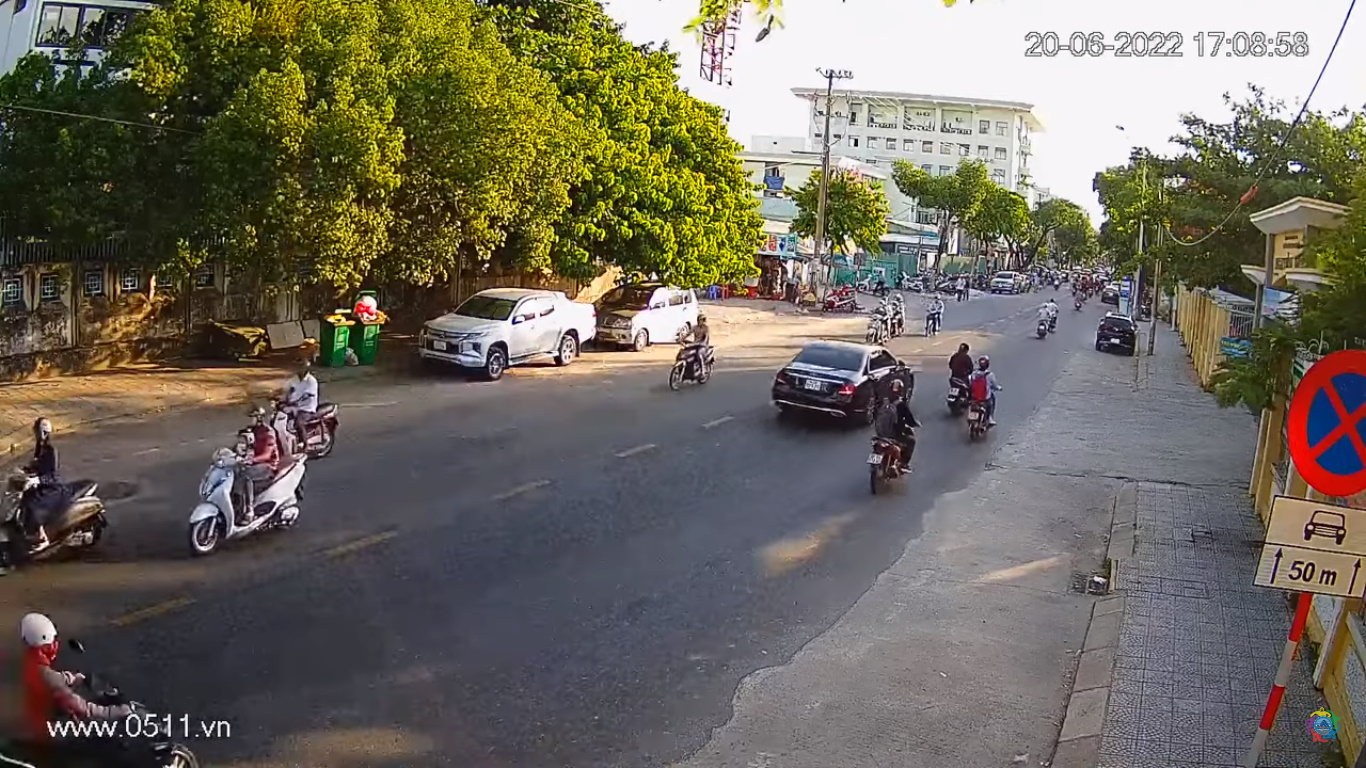car: (774, 337, 909, 429)
